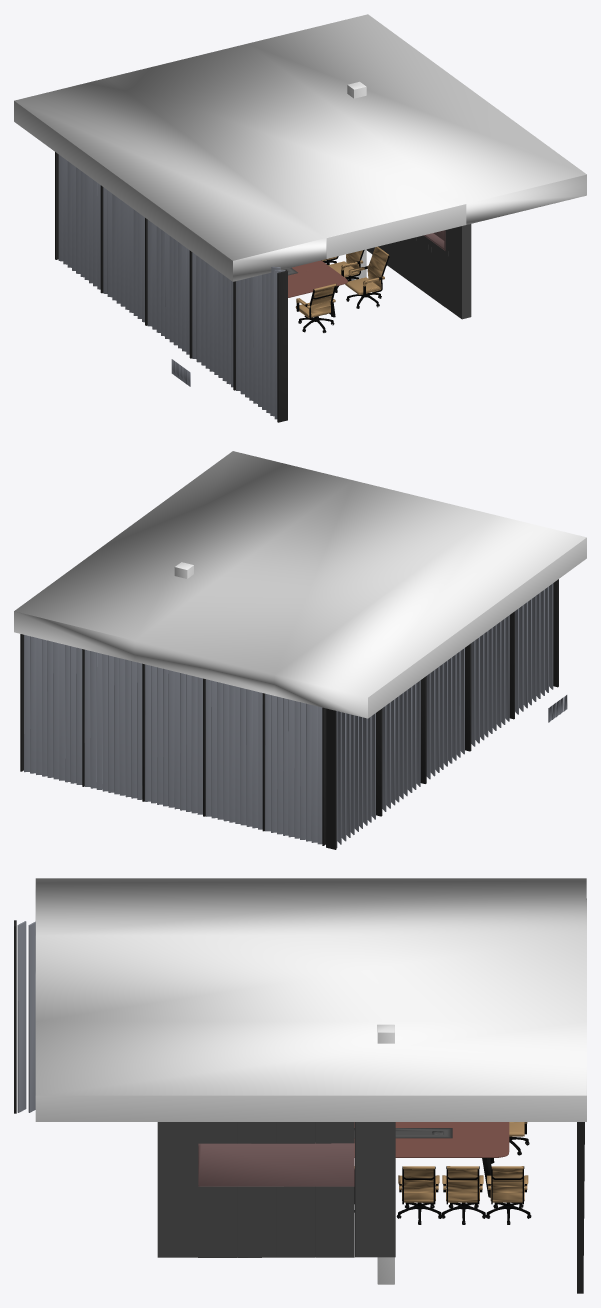
The model's file is office.glb.
The picture shows the model from 3 angles, top to bottom: view 1: azimuth 30°, elevation 25°; view 2: azimuth 150°, elevation 25°; view 3: azimuth 270°, elevation 25°; orthographic projection. The views are drawn at different scales.
Parts seen in each view (by area): view 1: Material #52, Material #70, Material #63, Material #56, 10, 3, 5; view 2: Material #52, Material #70, Material #56; view 3: Material #52, Material #63, Material #60, 10, 3, Material #70, 5, Material #56, 2.
Part boxes in pixels (bbox=[...]): Material #52: bbox=[14, 14, 586, 281]; Material #70: bbox=[58, 154, 285, 419]; Material #63: bbox=[366, 224, 471, 319]; Material #56: bbox=[55, 152, 287, 422]; 10: bbox=[295, 246, 389, 317]; 3: bbox=[288, 260, 347, 297]; 5: bbox=[296, 250, 389, 331]; Material #52: bbox=[14, 451, 586, 718]; Material #70: bbox=[24, 583, 567, 847]; Material #56: bbox=[20, 579, 558, 849]; Material #52: bbox=[35, 878, 586, 1284]; Material #63: bbox=[157, 1122, 395, 1257]; Material #60: bbox=[198, 1143, 354, 1186]; 10: bbox=[354, 1122, 528, 1202]; 3: bbox=[354, 1122, 509, 1157]; Material #70: bbox=[17, 921, 35, 1112]; 5: bbox=[354, 1123, 530, 1224]; Material #56: bbox=[14, 920, 584, 1293]; 2: bbox=[354, 1128, 452, 1138].
Bounding box in the file's own units: 8.15 × 4.27 × 8.78.
